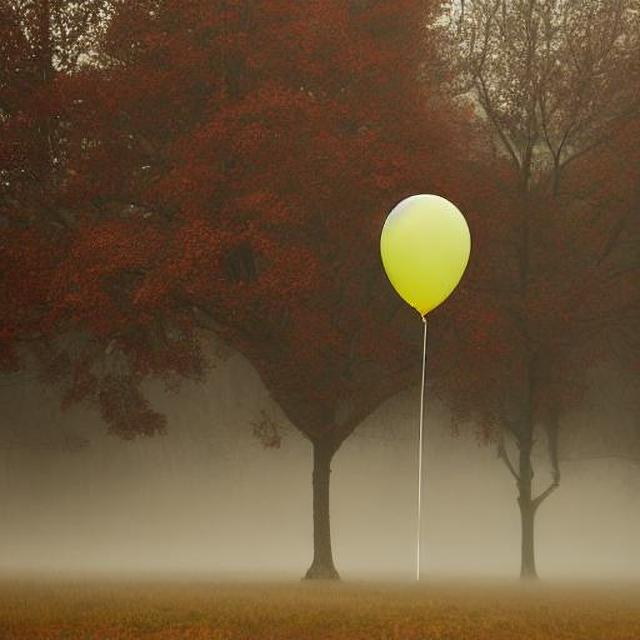balloon: (374, 190, 471, 322)
